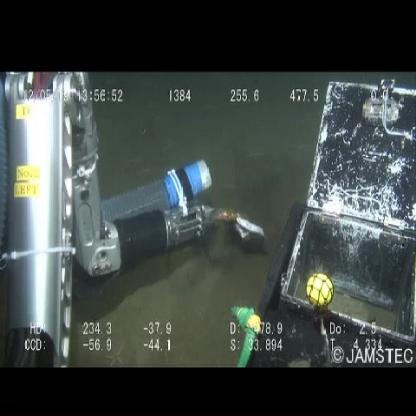Rov: (2, 72, 219, 368), (270, 73, 416, 365)
Rác: (210, 198, 268, 248)
